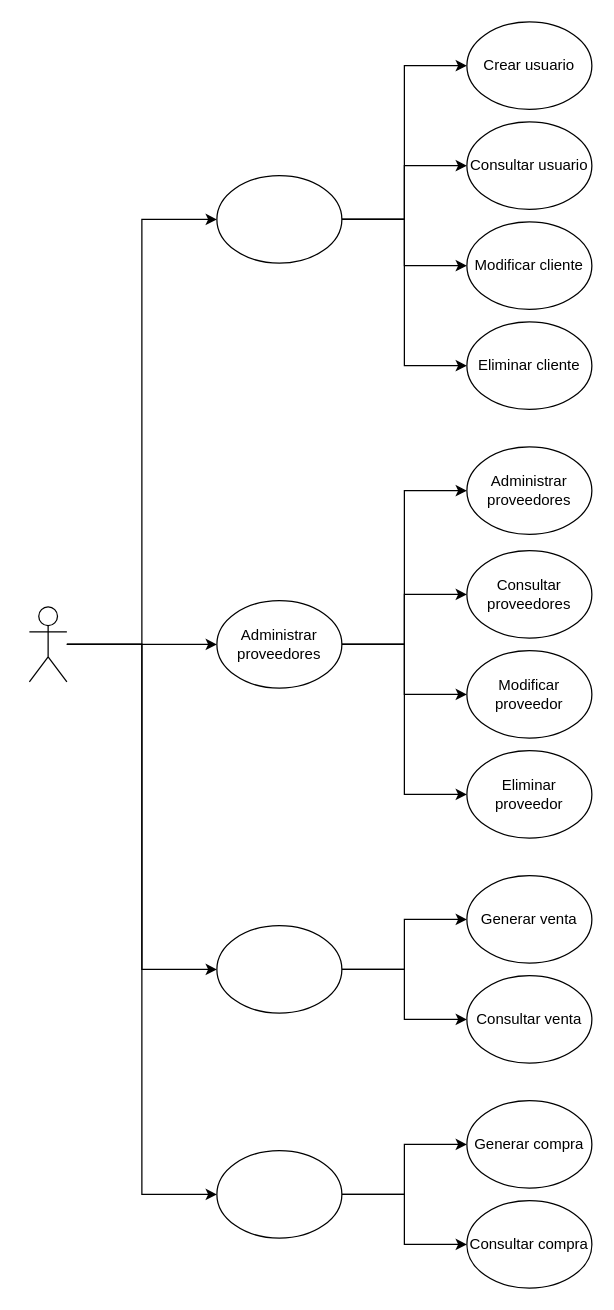
The diagram is 614 pixels wide and 1310 high, and some of its shapes have lost their labels. Here are the shapes that lost their labels. From the top down, the centre of each, then its label:
At [279,218]: "Administrar clientes".
At [47,644]: "Gerente".
At [279,968]: "Administrar ventas".
At [279,1193]: "Administrar compras".
